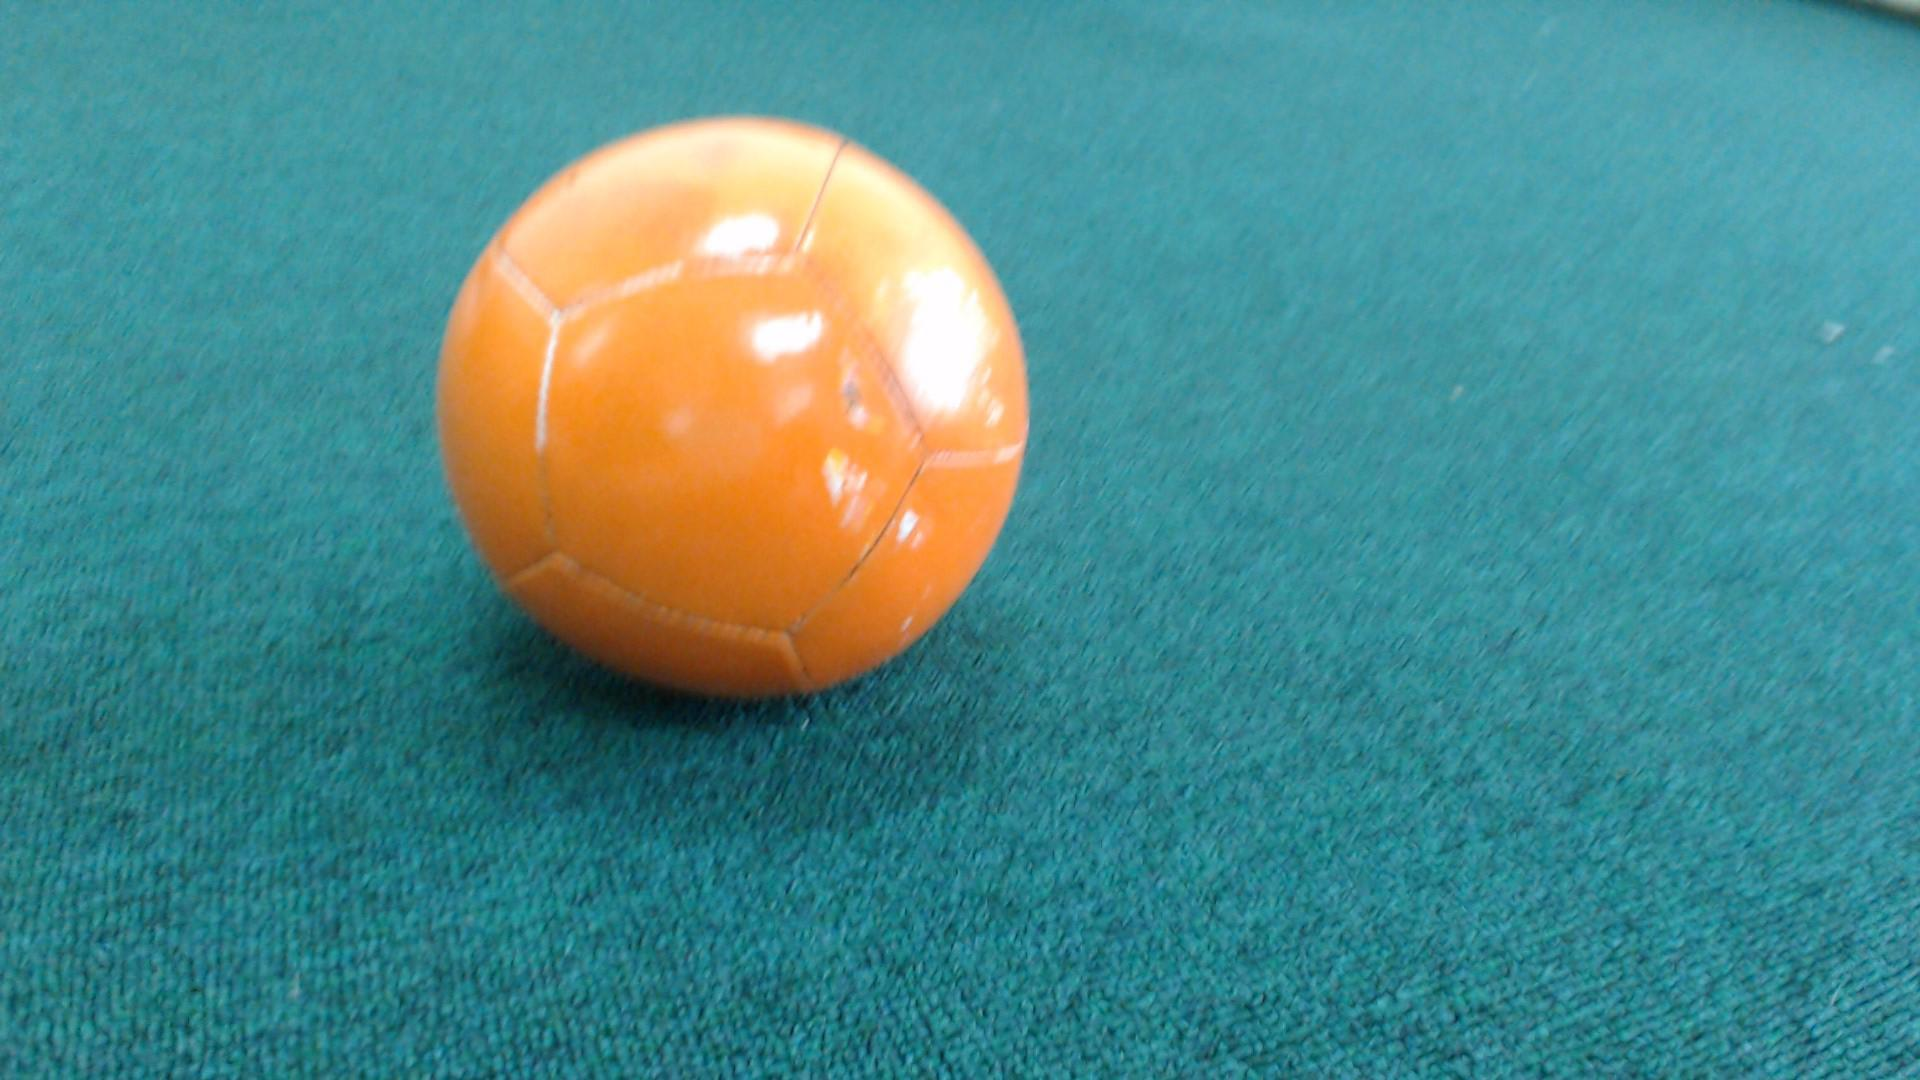bola: (429, 103, 1047, 711)
